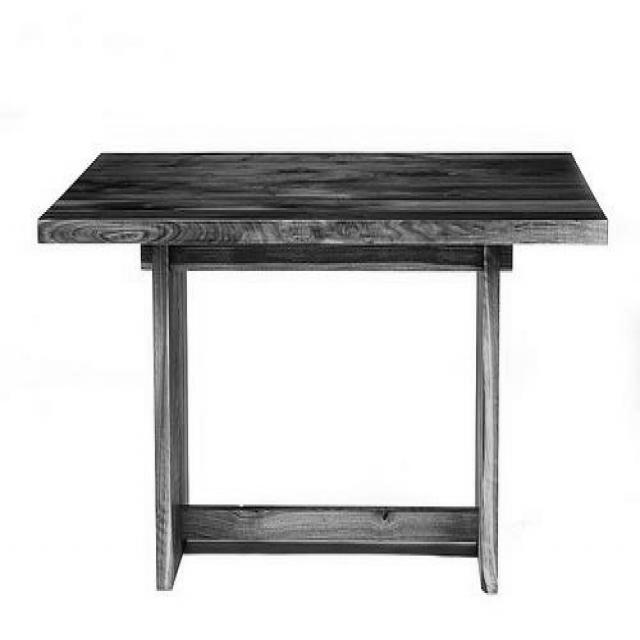table: (37, 150, 610, 592)
